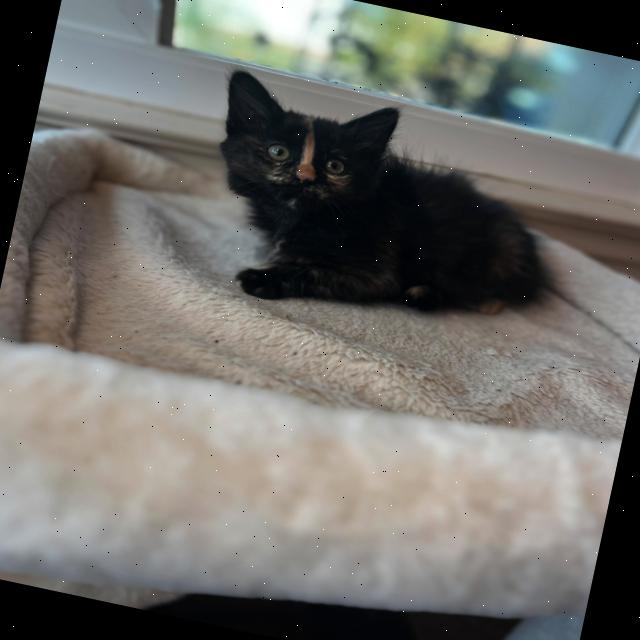domestic_long_hair_cat: (186, 60, 422, 256)
